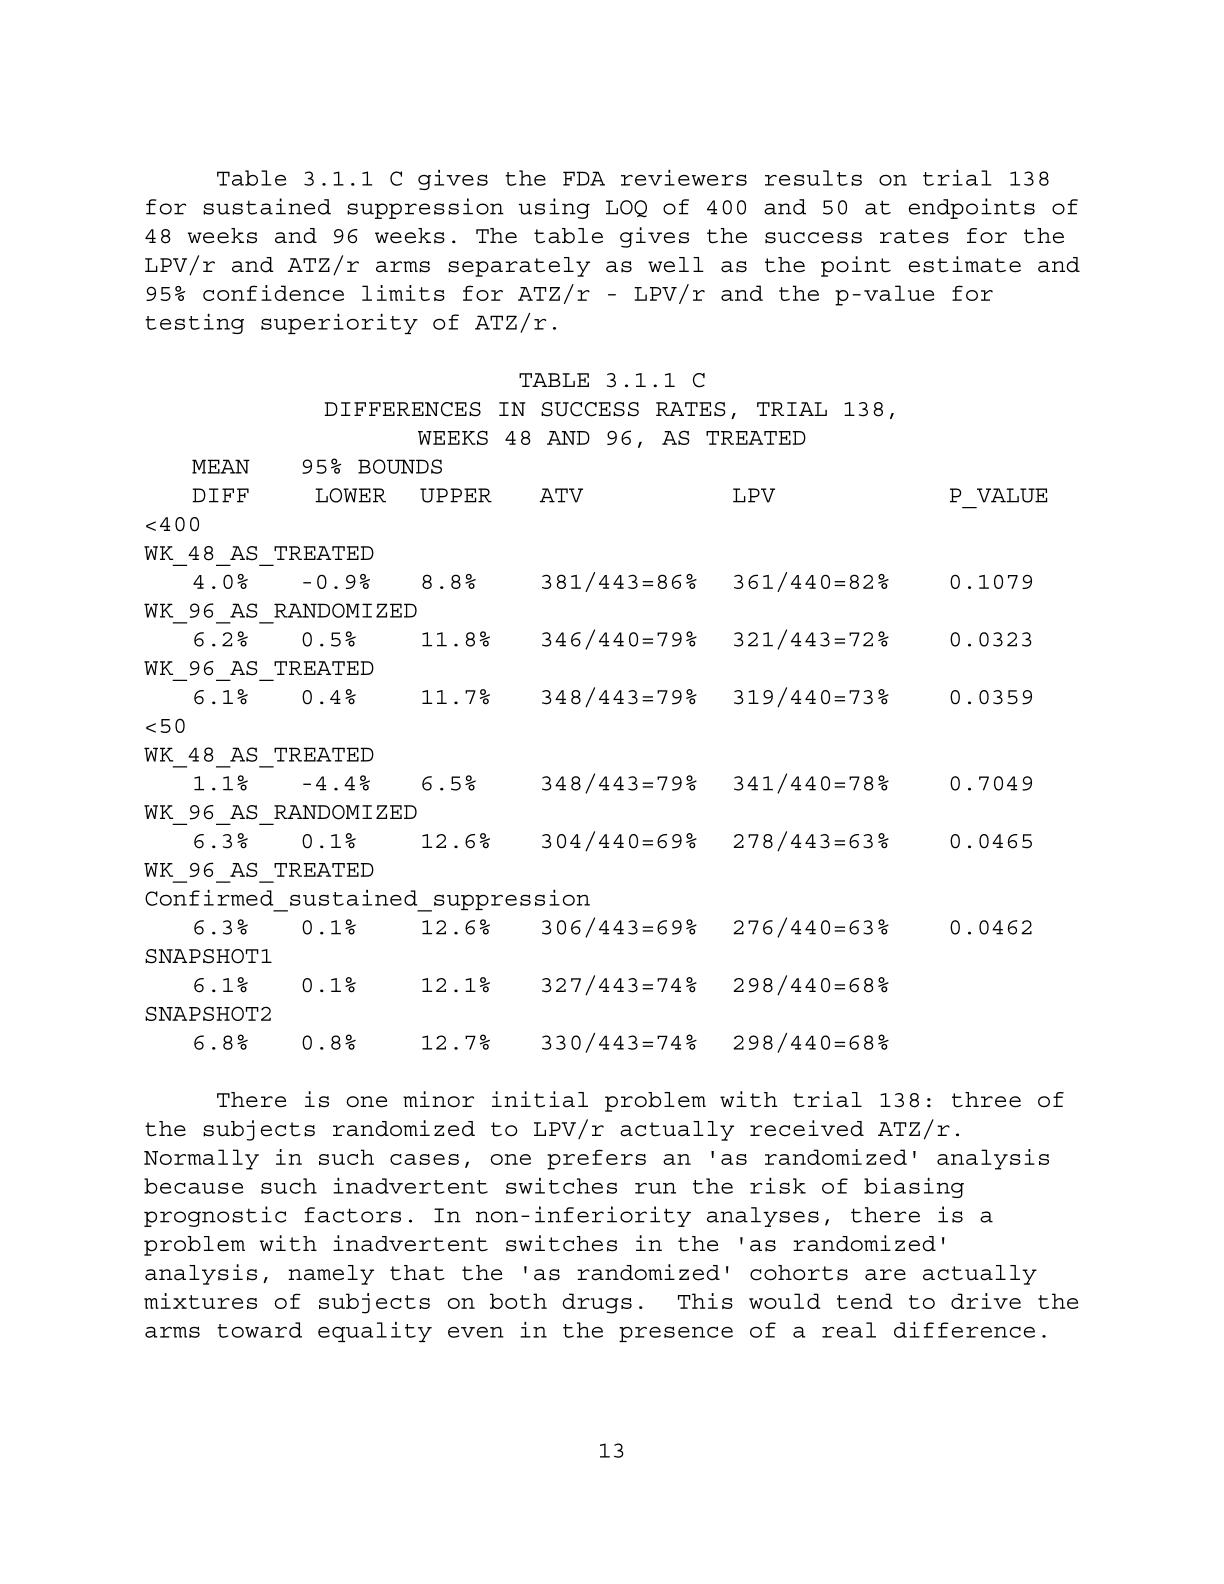nolines: (141, 453, 1050, 1054)
